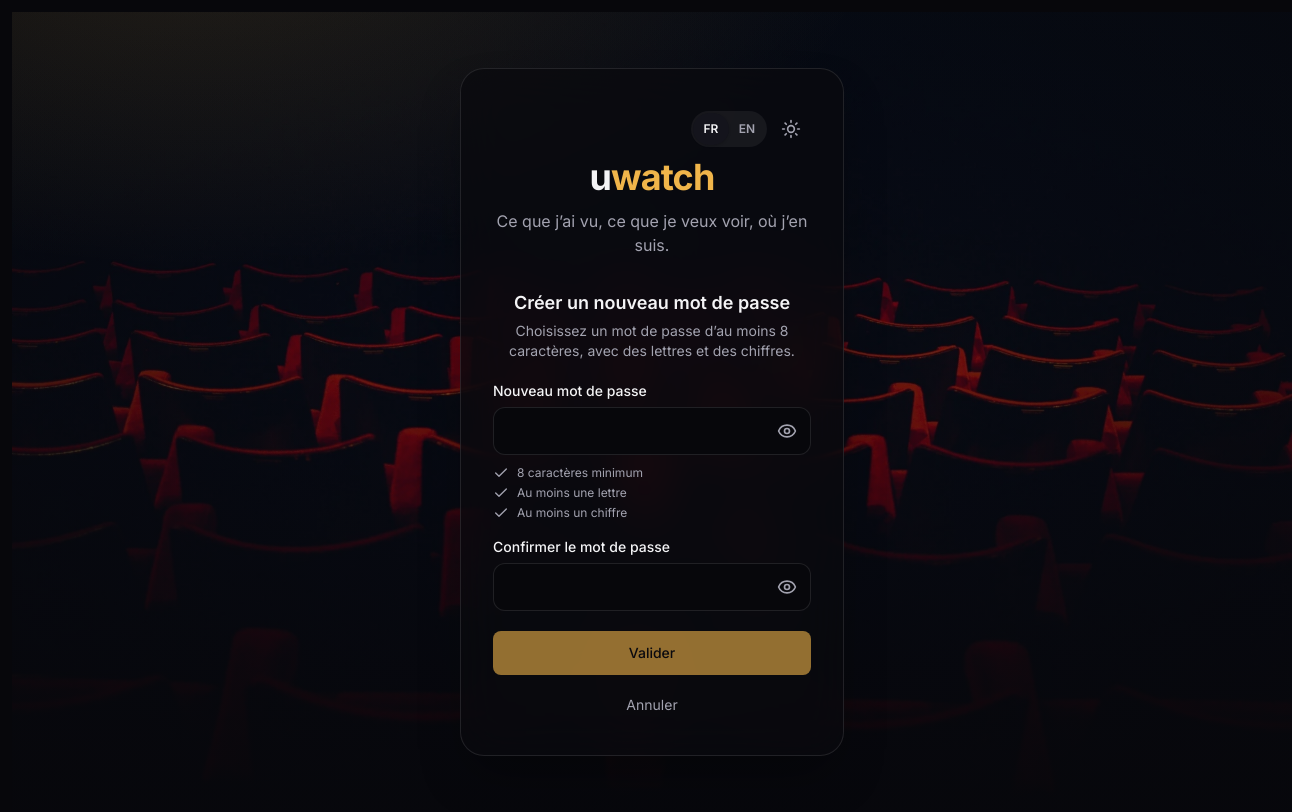
Scenario: ResetPasswordPage › saves the new password, shows a toast and goes home
This screenshot has width=1292, height=812.
Type "nouveau123" into the password field labelled "Nouveau mot de passe" at (652, 431), box [493,407,811,455]
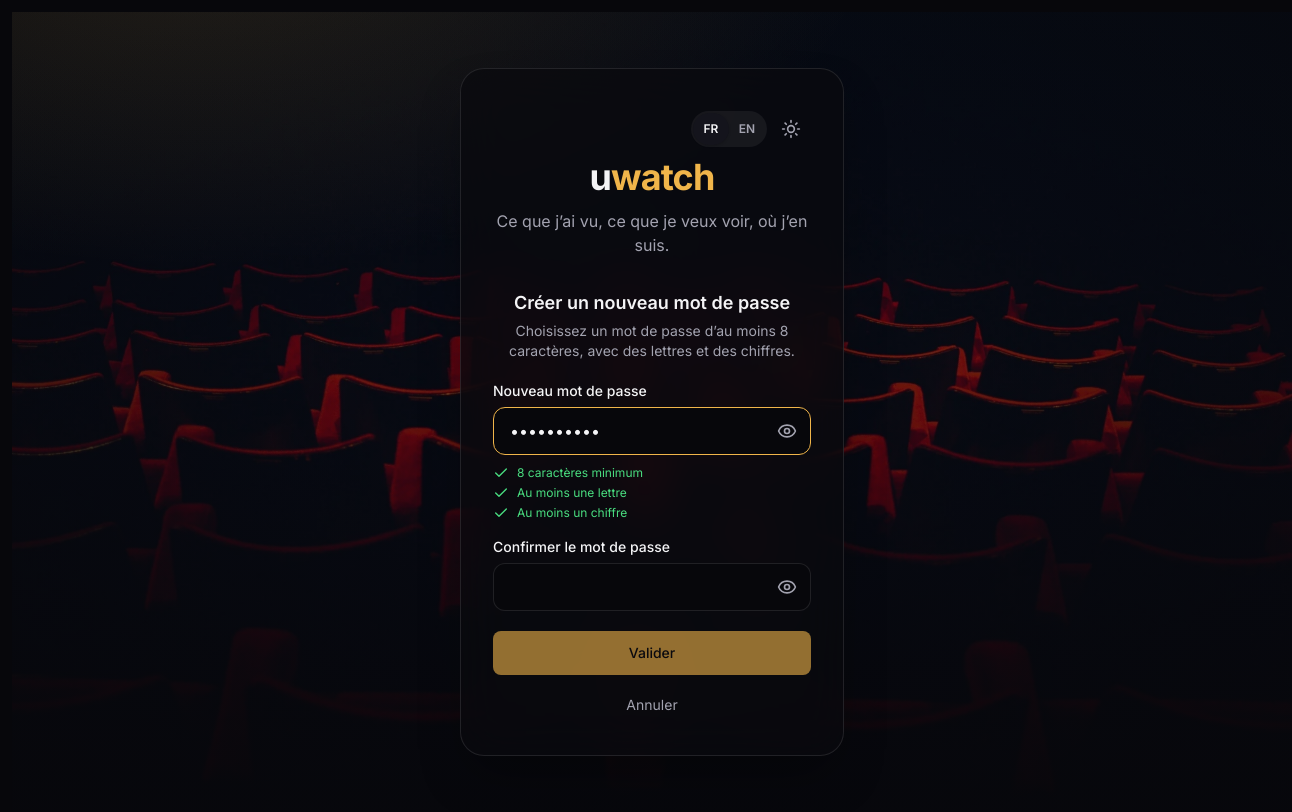
Type "nouveau123" into the password field labelled "Confirmer le mot de passe" at (652, 587), box [493,563,811,611]
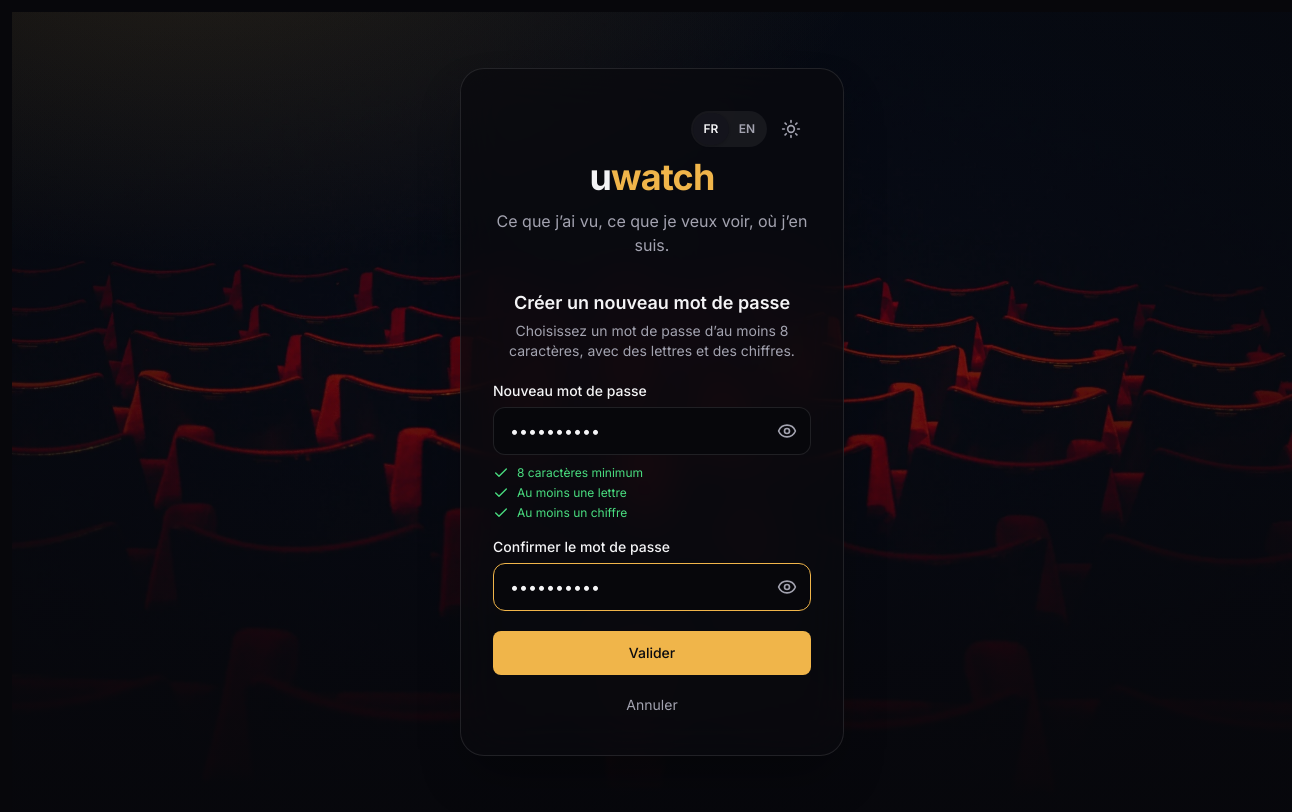
Click the button "Valider" at (652, 653), box [493,631,811,675]
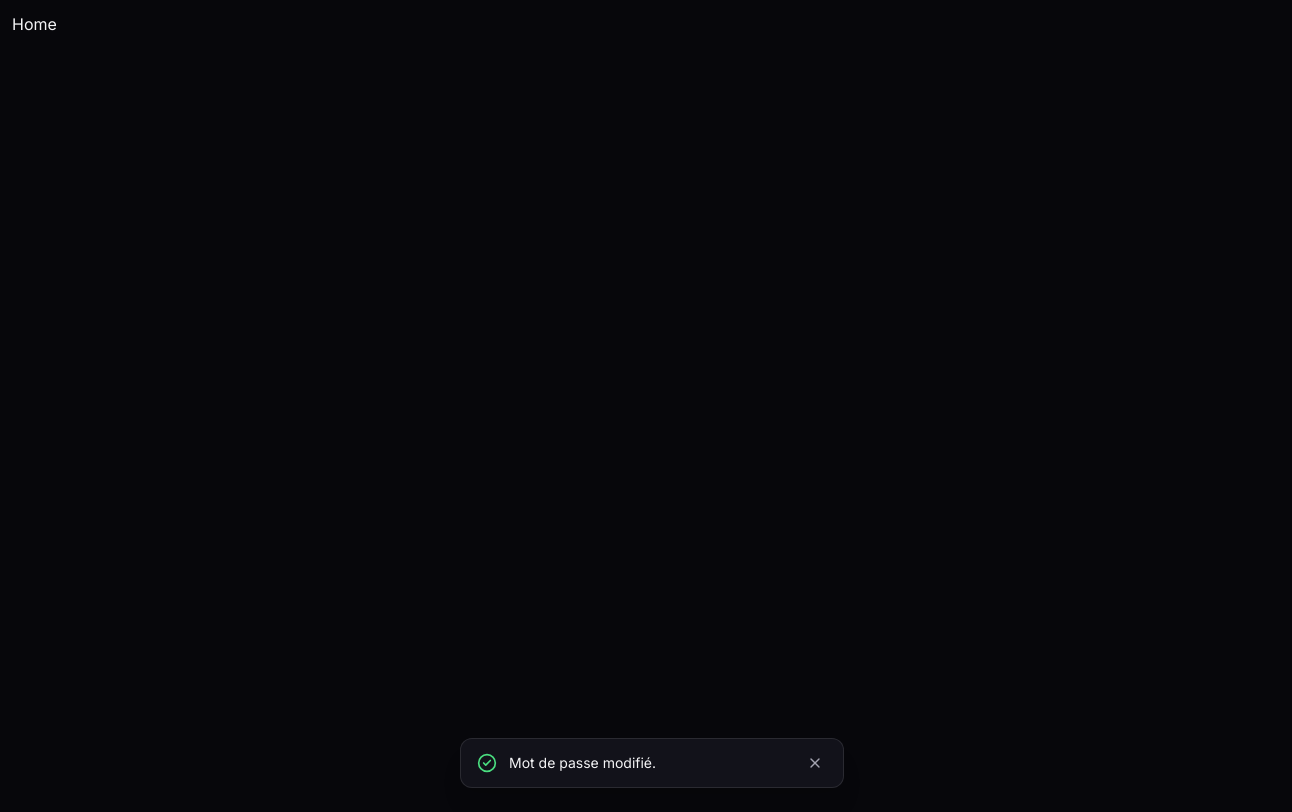
Result: the heading "Home" is shown at [12,14,57,34]
Result: the text "Mot de passe modifié." is shown at [509,754,656,771]
